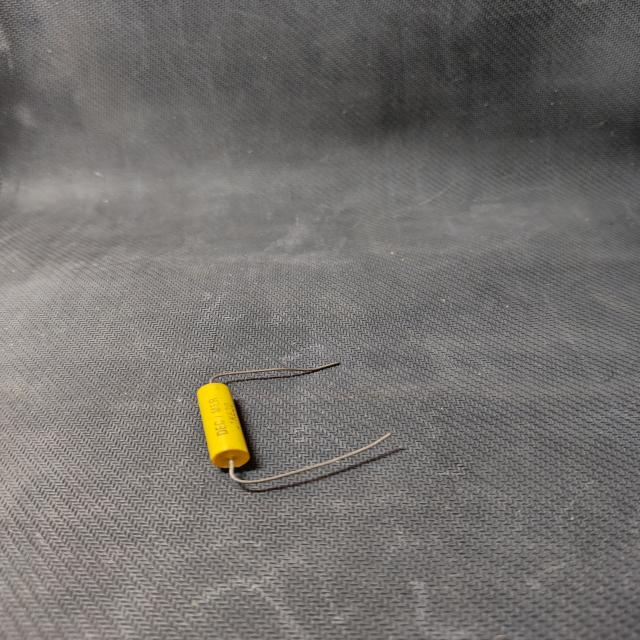capacitor: (188, 348, 408, 489)
